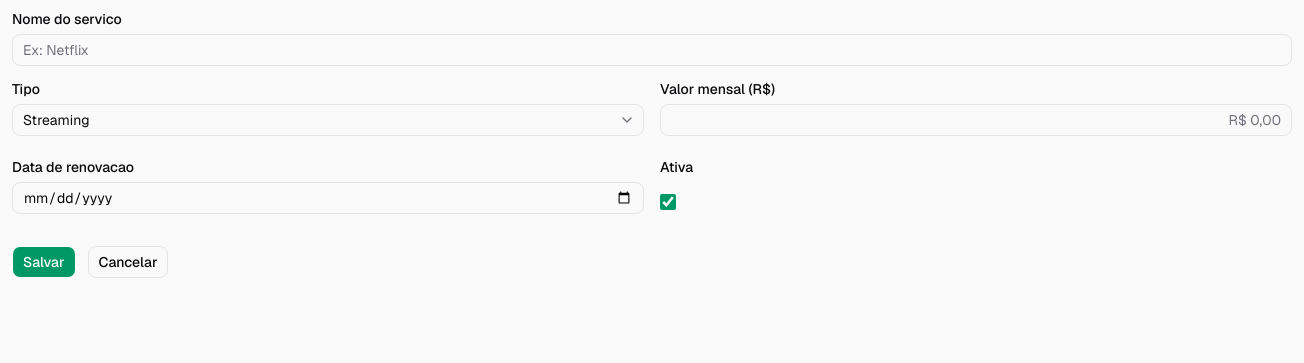
Test: AssinaturaForm › campo nome vazio bloqueia submit
Click the button "Salvar": click(44, 262) [12,246,76,278]
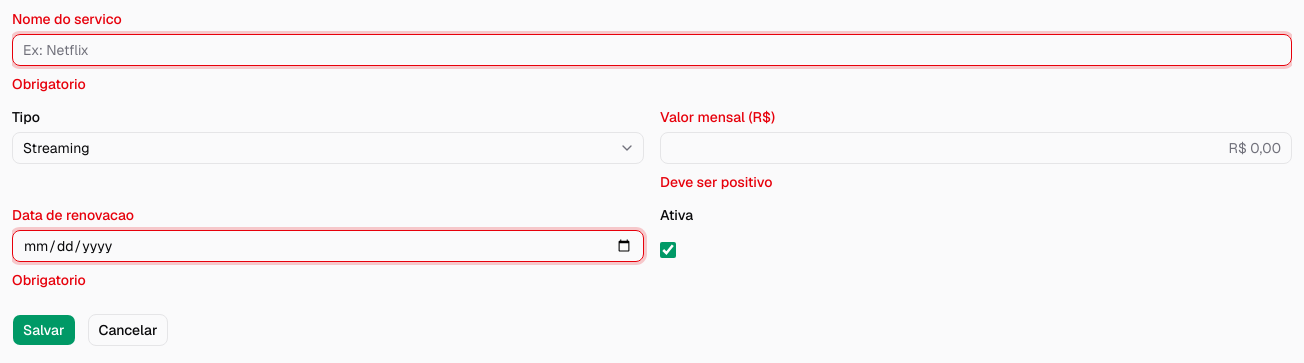
Expected: the text "Obrigatorio" below "Nome do servico" is shown, [12,75,86,93]
